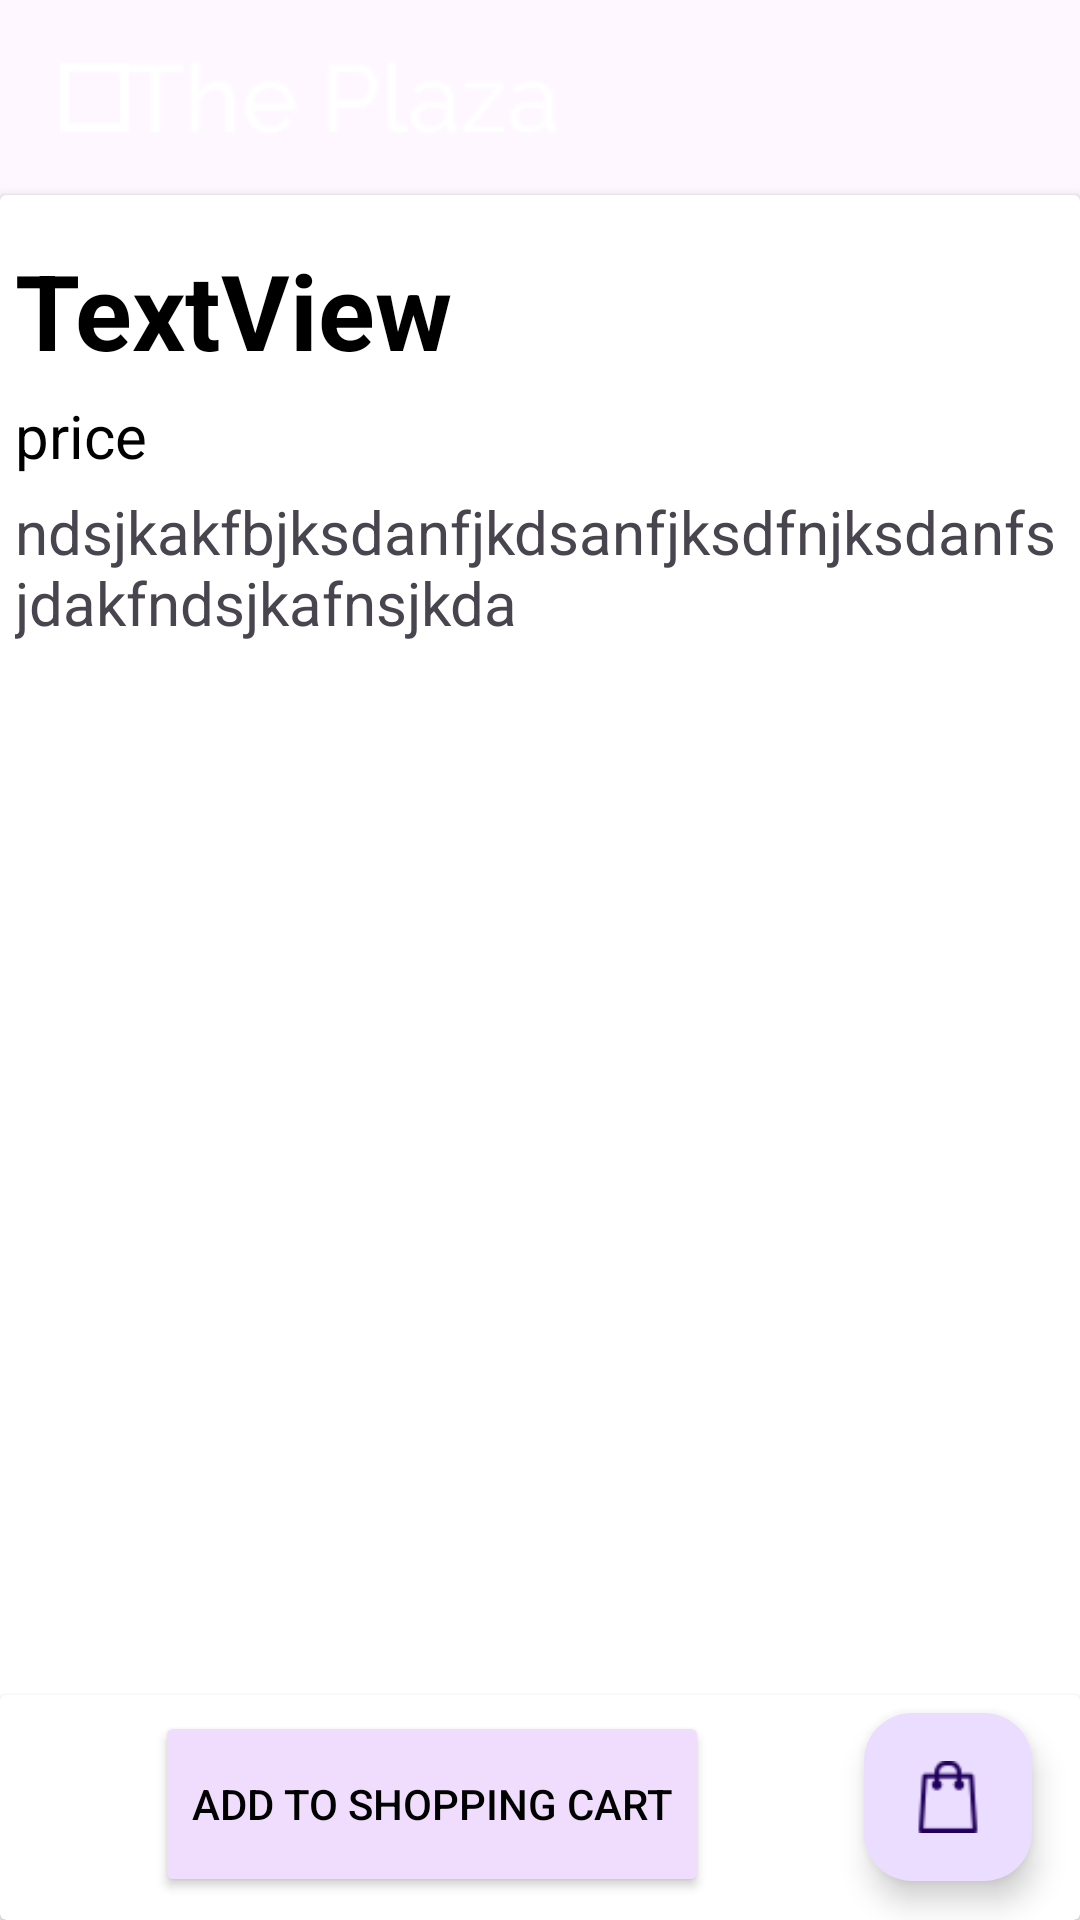

Point at icon controls on the screen. Image size 1080 × 1920, points as [x,y].
shopping cart: [948,1797]
